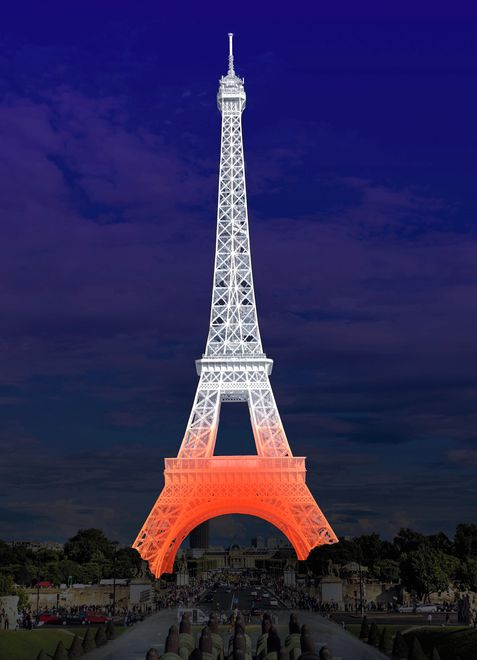eiffel tower: (104, 13, 363, 574)
